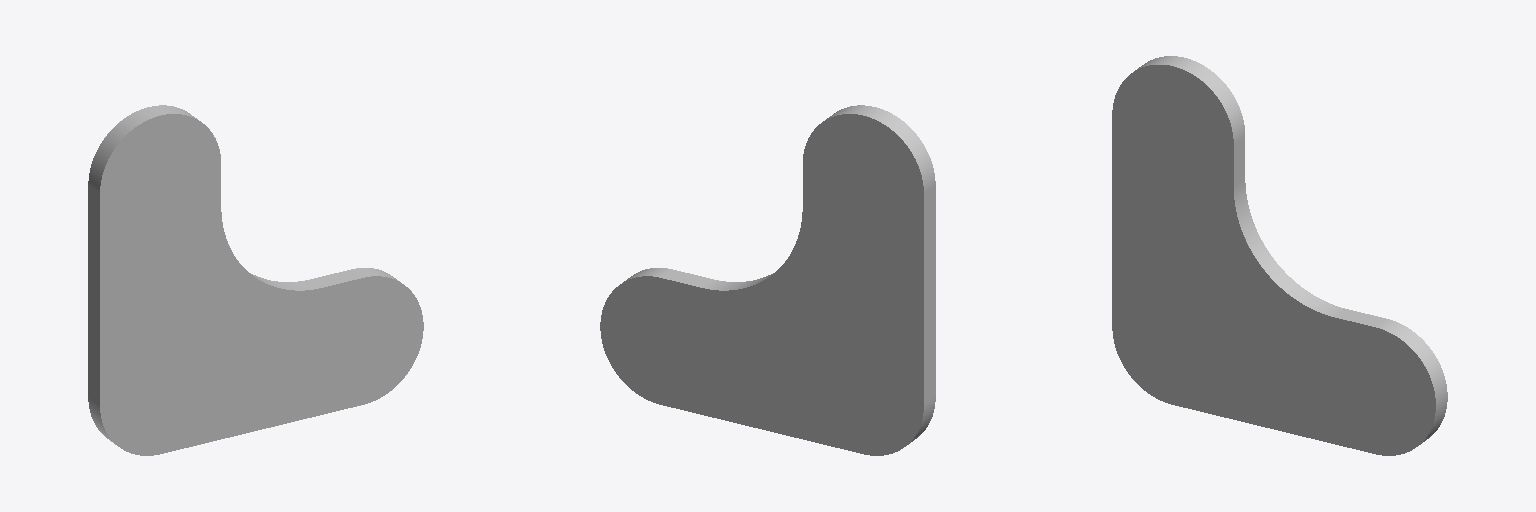
Rendered from texturedInnerFiller.obj.
3 views of the same model, side by side, from view 1: azimuth 30°, elevation 25°; view 2: azimuth 150°, elevation 25°; view 3: azimuth 330°, elevation 25° (orthographic).
Parts seen in each view (by area): view 1: obj0; view 2: obj0; view 3: obj0.
Part boxes in pixels (left/top/right/bottom): obj0: left=88, top=105, right=423, bottom=455; obj0: left=600, top=105, right=935, bottom=455; obj0: left=1112, top=56, right=1447, bottom=455.
Size of the model in its own units: 25.4 by 25.4 by 1.59.